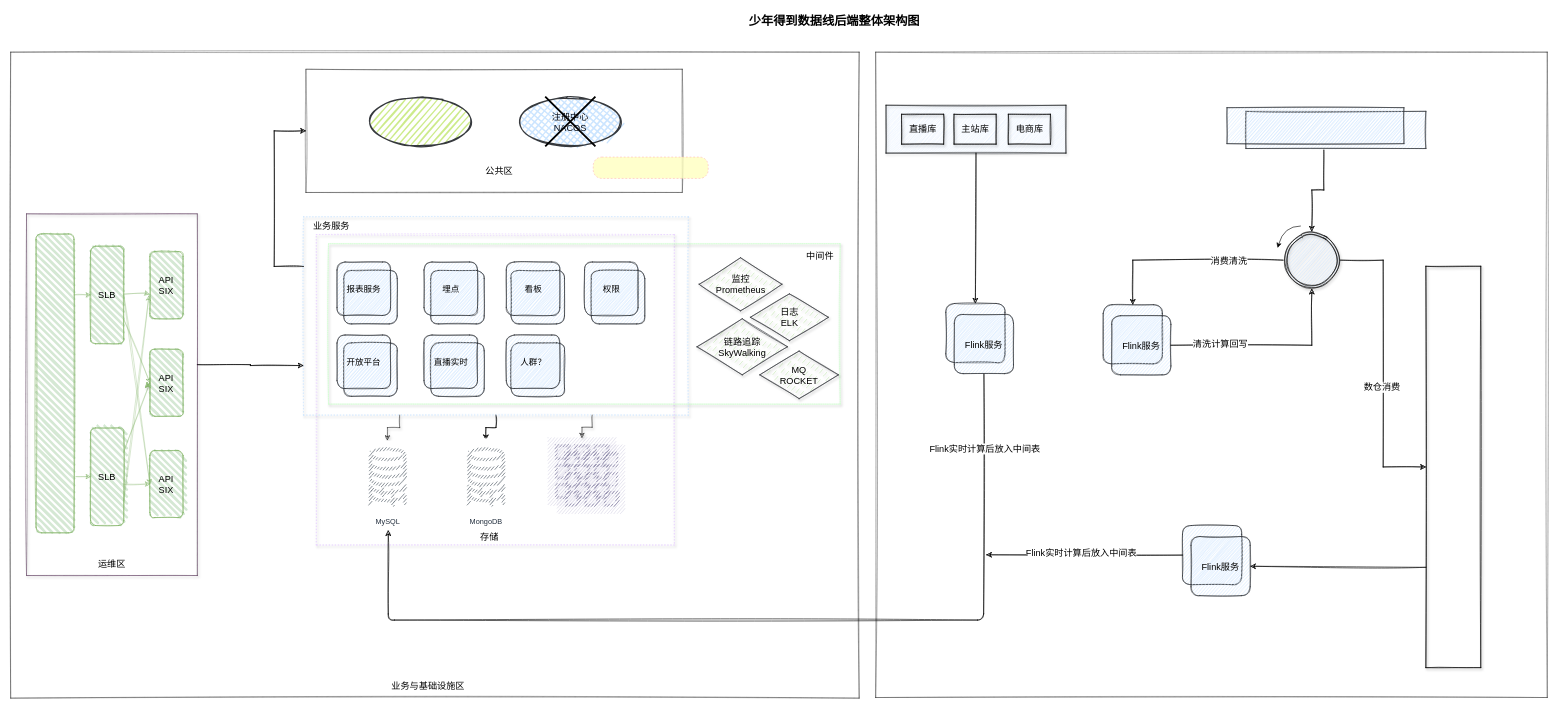
The diagram is 1558 pixels wide and 709 high, and some of its shapes have lost their labels. Each missing label, with the centre of its shape:
"MQ KAFKA" goes at (1312,260).
"Redis" goes at (590,478).
"WAF" goes at (54,383).
"为将来引入 istio 做service mesh 放弃使用注册中心" goes at (650,167).
"数仓" goes at (1453,467).
"日志网关 OpenResty" goes at (1315,125).
"配置中心 APOLLO" goes at (420,121).
